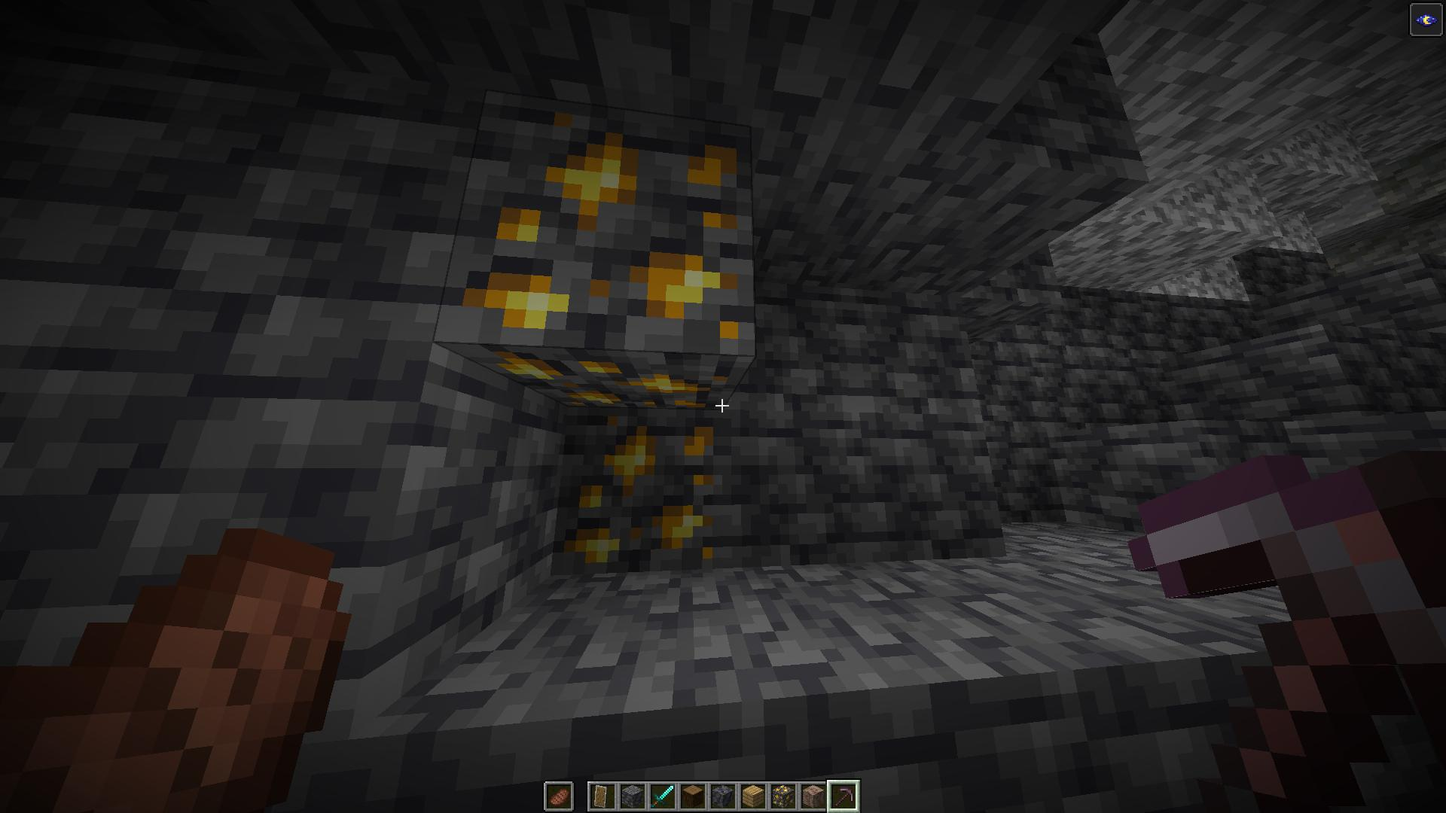gold ore: (453, 84, 763, 434), (549, 415, 719, 576)
